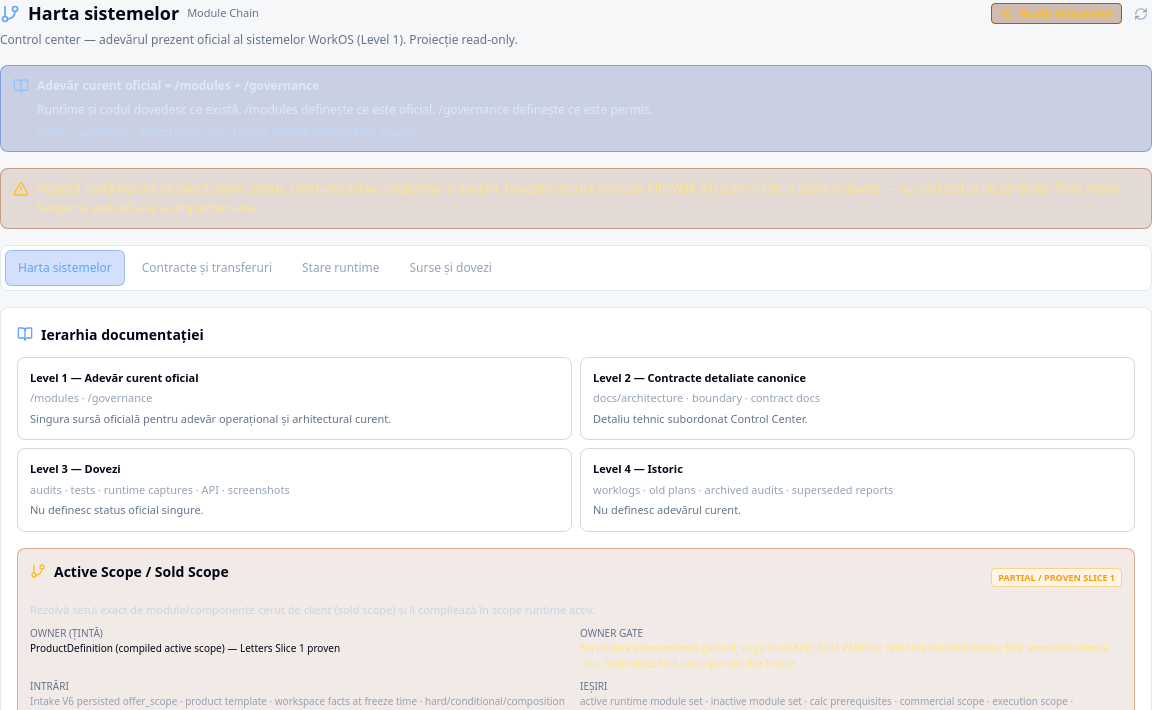
Test case: ModuleChain present-truth control center › shows honest runtime unavailable without LIVE claim
Click the tab with test id "module-chain-tab-runtime": (341, 268) [289,250,392,286]
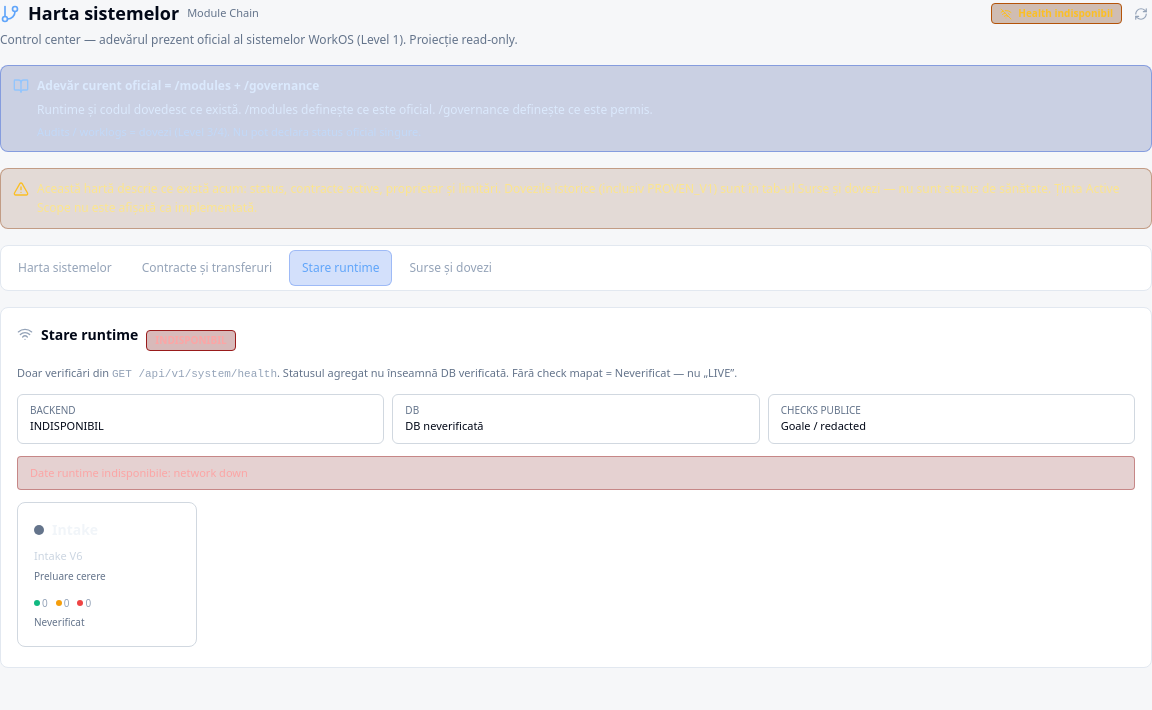
Expected: the panel with test id "module-chain-runtime" shows "Stare runtime", [41,325,138,344]
Expected: the text with test id "module-chain-runtime-aggregate" reads "INDISPONIBIL", [155,333,227,347]
Expected: the text "Date runtime indisponibile: network down" is shown, [17,456,1135,490]
